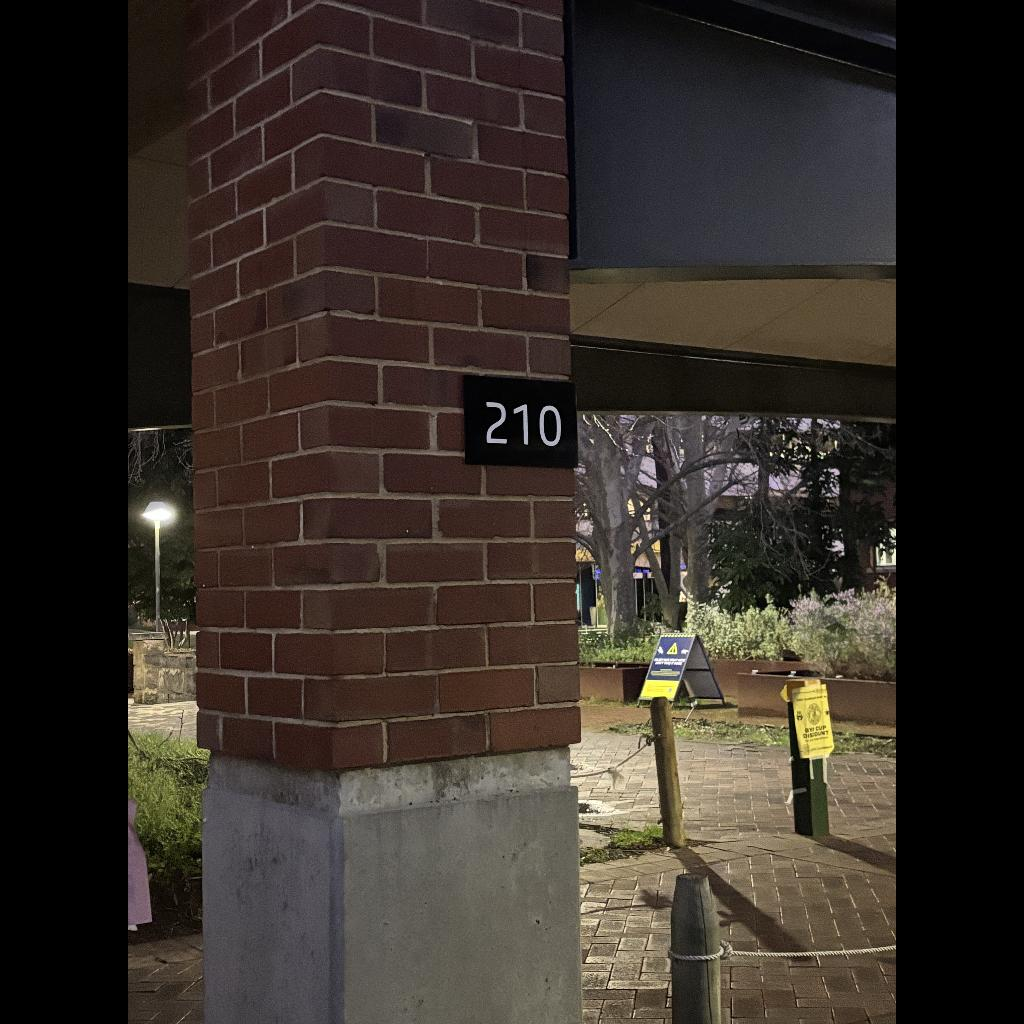BuildingCodes: (478, 392, 570, 454)
